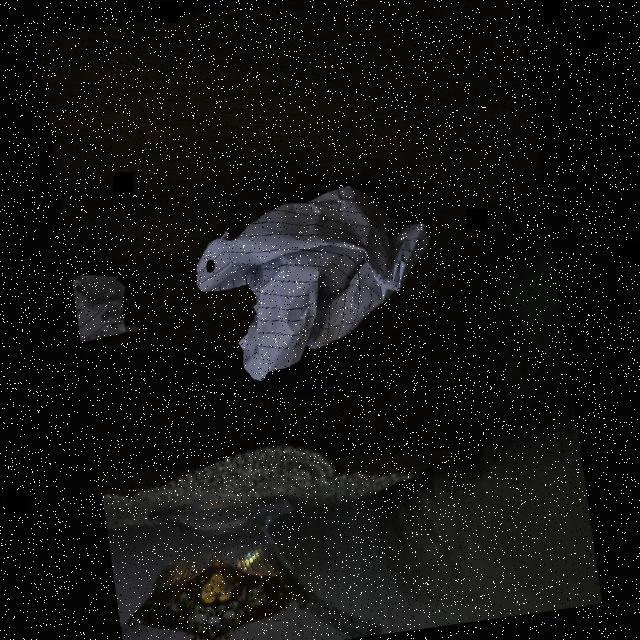scrap_paper: (185, 177, 446, 387)
